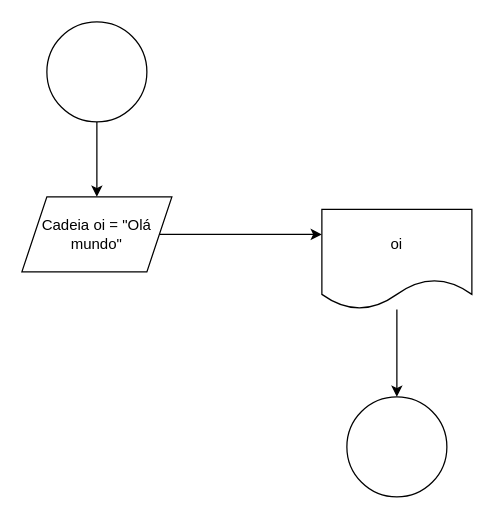
The diagram is 494 pixels wide and 519 high, and some of its shapes have lost their labels. Here are the shapes that lost their labels. From the top down, the box of each, then its label:
(46, 21, 147, 122): inicio
(346, 396, 447, 497): Fim
